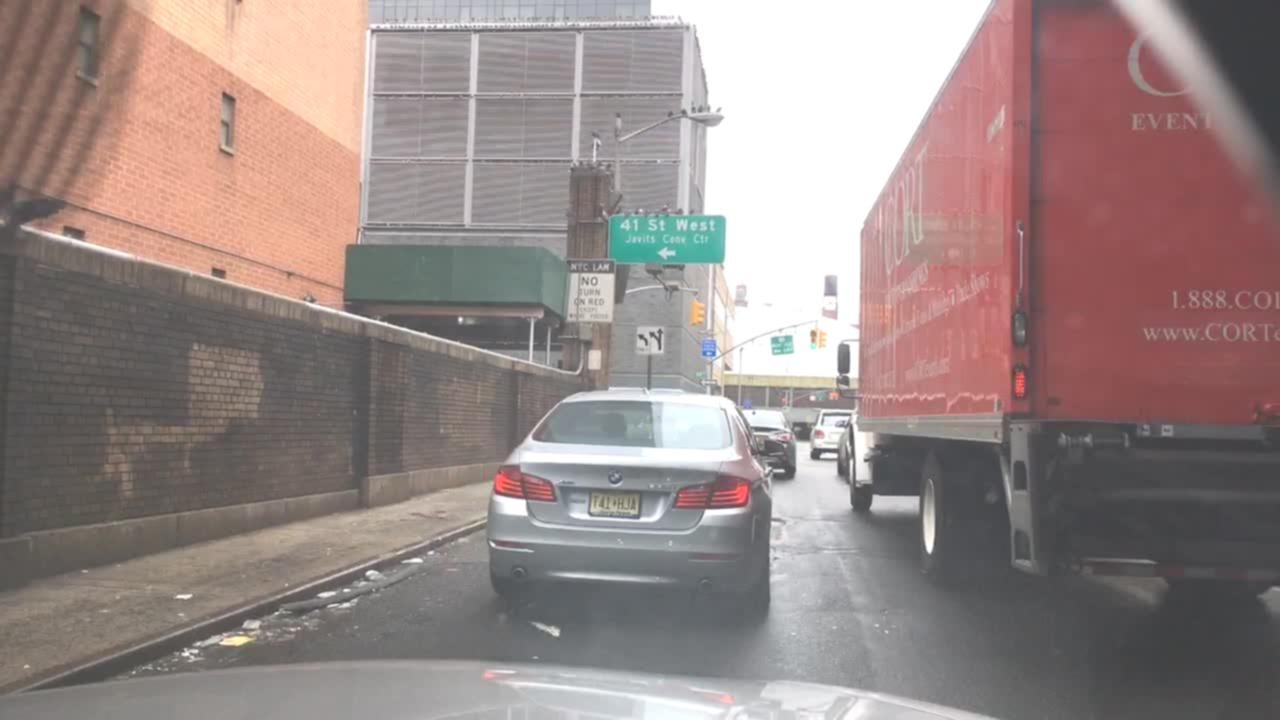bmw: (604, 464, 631, 489)
